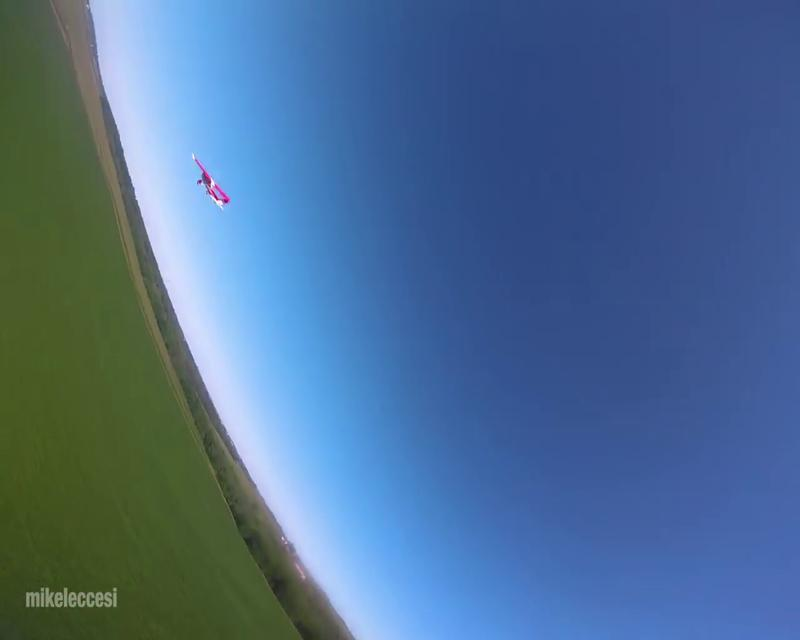UAV: (190, 152, 230, 210)
